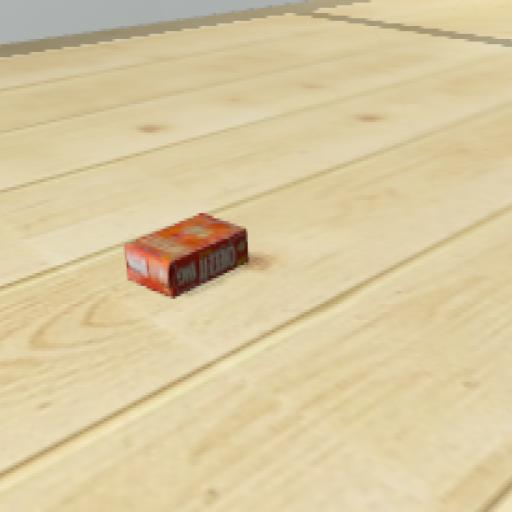BOX_R: (114, 172, 266, 356)
